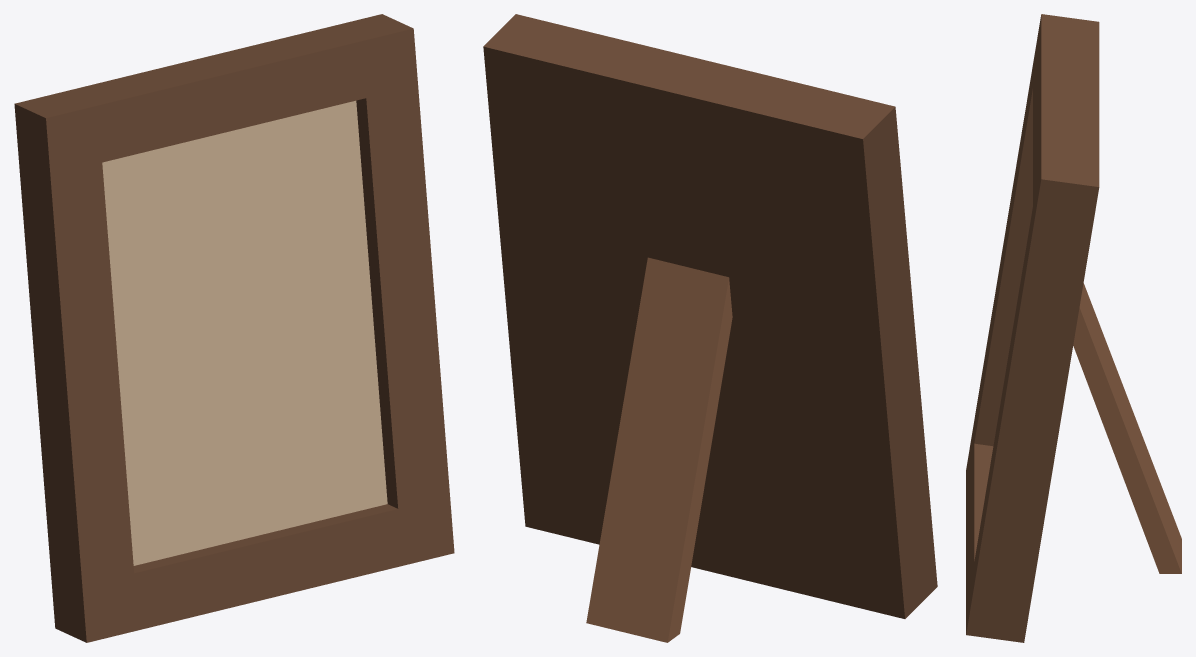
Rendered from Frame_02.fbx.
The picture shows the model from 3 angles, left to right: view 1: azimuth 30°, elevation 25°; view 2: azimuth 150°, elevation 25°; view 3: azimuth 270°, elevation 25°; orthographic projection. The views are drawn at different scales.
Parts seen in each view (by area): view 1: Frame_02; view 2: Frame_02; view 3: Frame_02.
Part boxes in pixels (left/top/right/bottom): Frame_02: left=14, top=14, right=454, bottom=642; Frame_02: left=483, top=14, right=937, bottom=642; Frame_02: left=966, top=14, right=1181, bottom=642.
Bounding box in the file's own units: 10 × 13.08 × 5.51.
